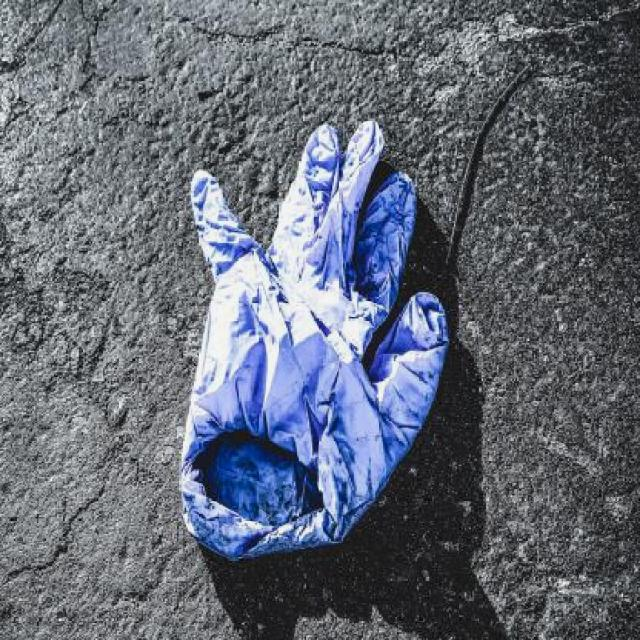glove: (165, 108, 448, 558)
